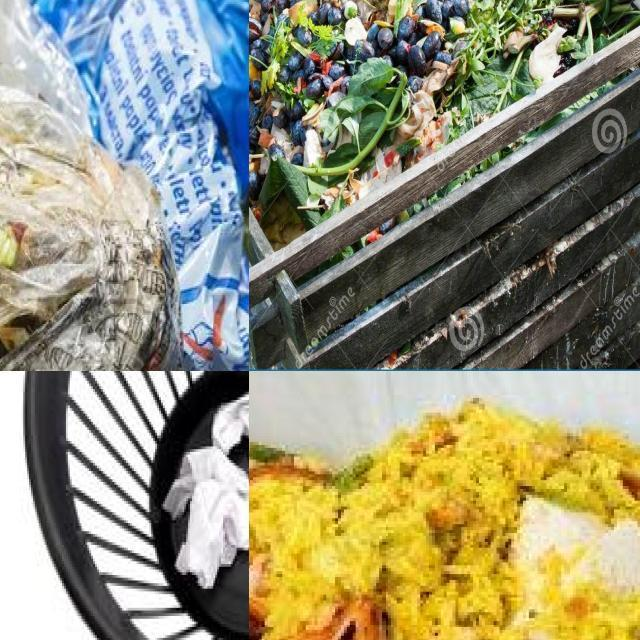Garbage: (249, 0, 640, 244), (249, 399, 640, 640), (33, 0, 249, 371), (0, 60, 179, 371), (161, 377, 249, 640)
contaminated_waste: (0, 86, 178, 371), (0, 86, 161, 356)
top_view_waste: (28, 371, 249, 640)
